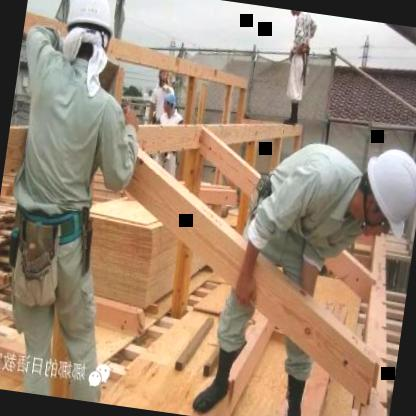helmet: (342, 135, 416, 243), (53, 0, 121, 73), (159, 88, 181, 120), (284, 9, 305, 20)
